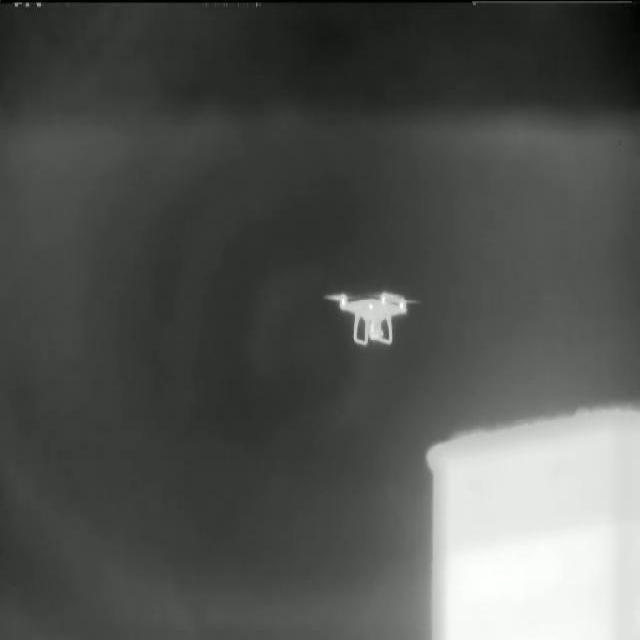DRONE: (322, 289, 424, 346)
